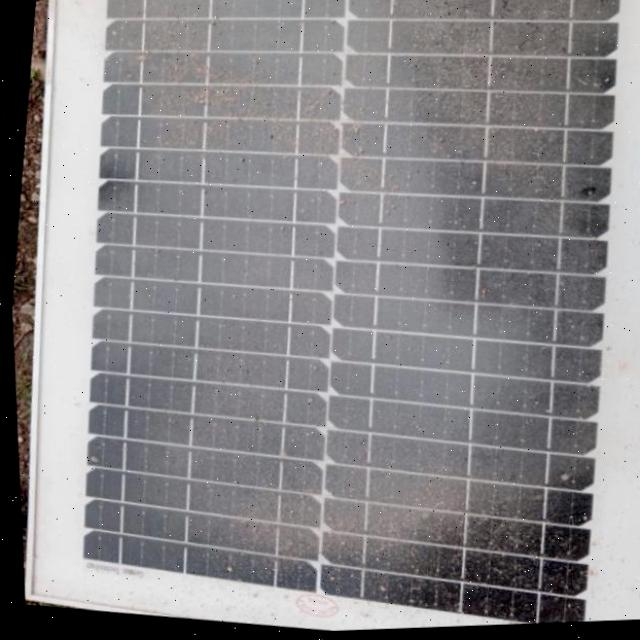Surface Contaminant: (63, 0, 625, 615)
